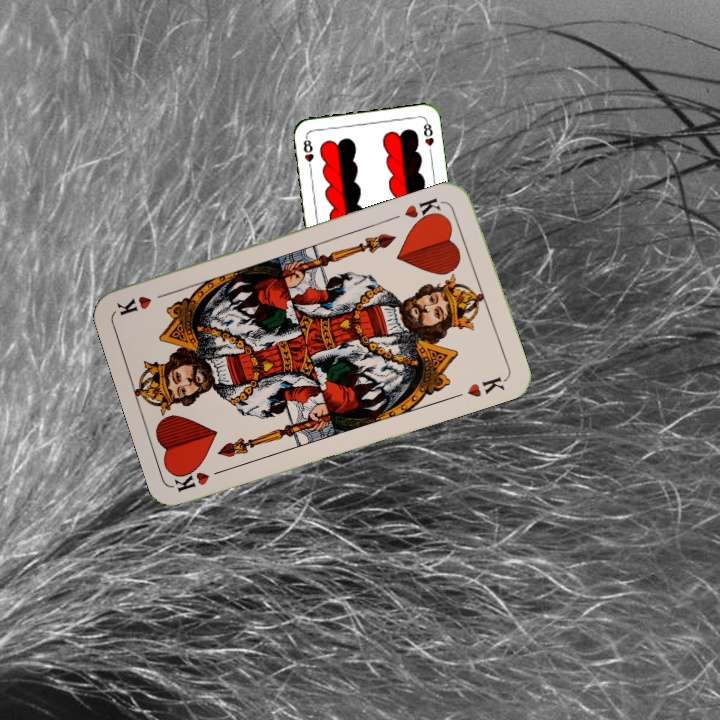H8: (299, 133, 317, 173)
HK: (171, 464, 230, 496), (400, 194, 449, 227)
